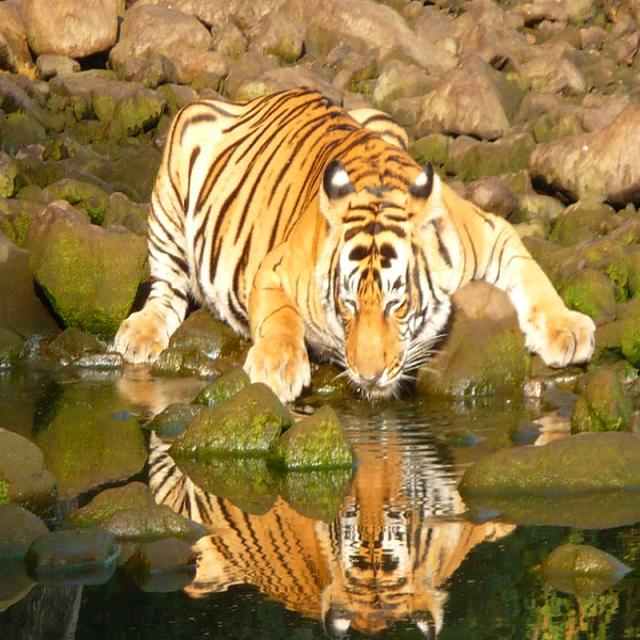Tiger: (112, 86, 595, 406)
